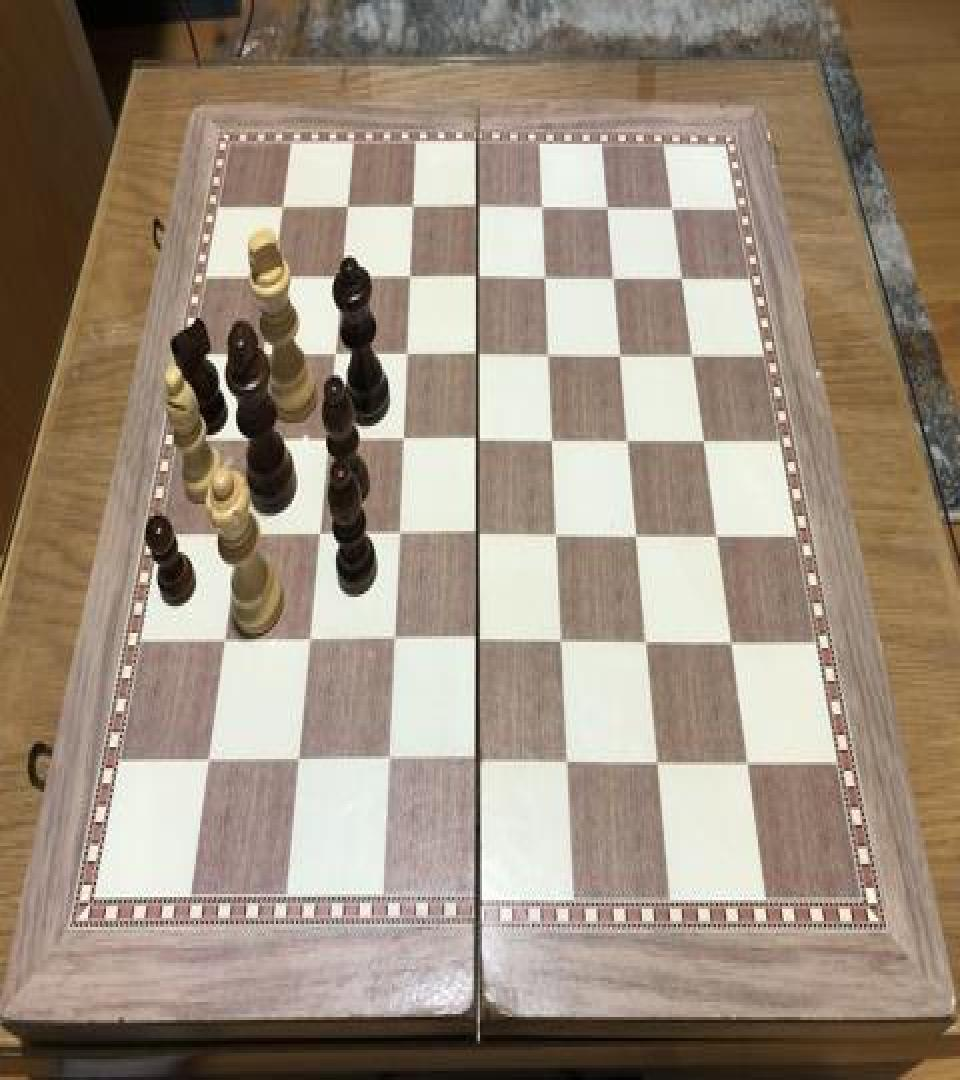xcorner: (704, 514, 728, 551), (624, 514, 648, 551), (633, 622, 657, 659), (549, 622, 573, 659), (465, 622, 489, 659), (381, 622, 405, 659), (297, 622, 321, 659), (214, 622, 238, 659), (734, 742, 758, 779), (644, 742, 668, 779), (554, 742, 578, 779), (464, 742, 488, 779), (375, 742, 399, 779), (285, 742, 309, 779), (197, 742, 221, 779), (660, 189, 684, 225), (595, 189, 619, 225), (531, 190, 555, 226), (466, 190, 490, 226), (402, 192, 426, 228), (338, 192, 362, 228), (274, 194, 298, 230), (670, 258, 694, 294), (602, 258, 626, 294), (399, 261, 423, 297), (332, 261, 356, 297), (264, 262, 288, 298), (680, 334, 704, 370), (608, 334, 632, 370), (537, 336, 561, 372), (466, 336, 490, 372), (395, 338, 419, 374), (324, 338, 348, 374), (254, 338, 278, 374), (691, 420, 715, 456), (616, 420, 640, 456), (540, 420, 564, 456), (465, 422, 489, 458), (391, 422, 415, 458), (316, 423, 340, 459), (242, 423, 266, 459), (544, 516, 568, 552), (465, 516, 489, 552), (386, 516, 410, 552), (307, 516, 331, 552), (228, 518, 252, 554), (718, 621, 742, 657), (534, 260, 558, 295), (466, 260, 490, 295)
